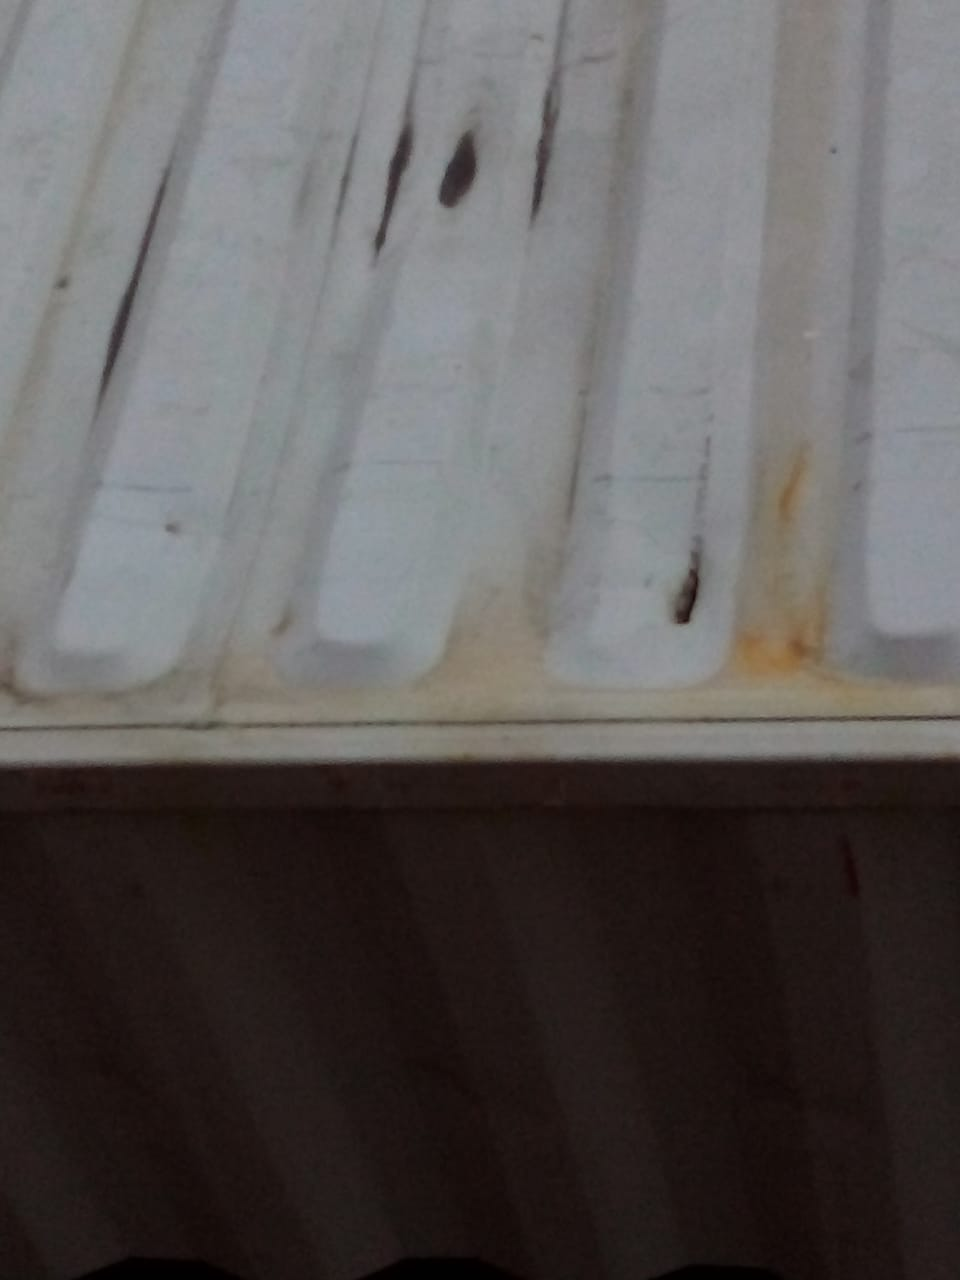cut: (71, 145, 206, 430), (421, 100, 518, 238), (643, 526, 718, 649)
